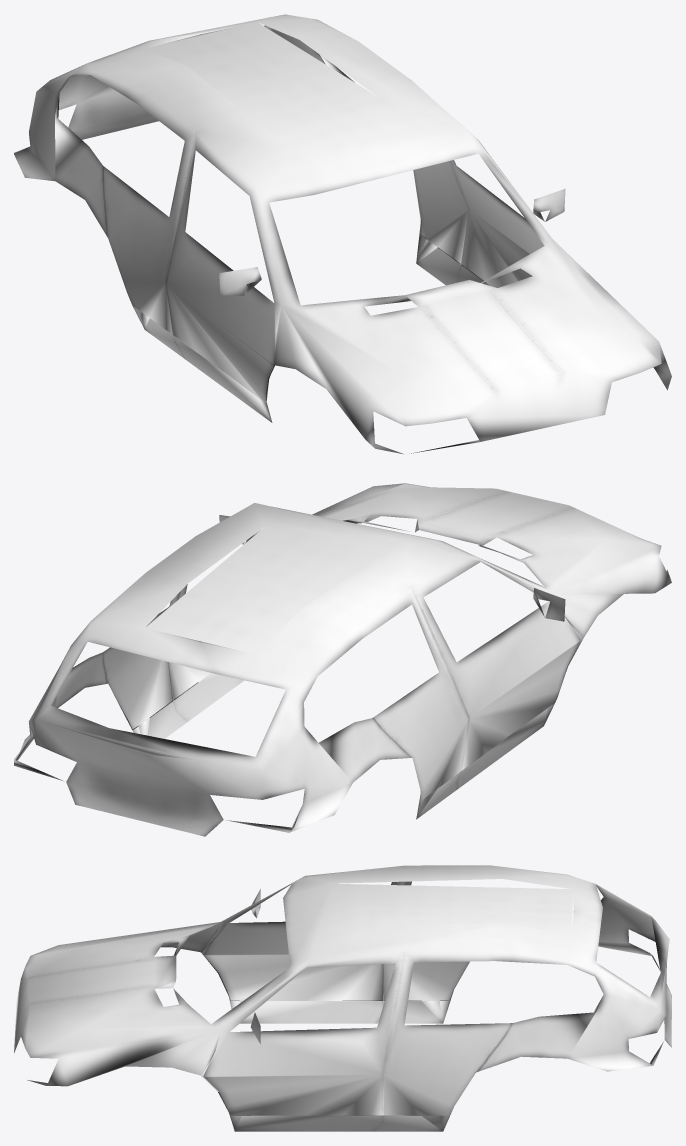
File: LK4_body_d1.obj
3 renders of one model, top to bottom at view 1: azimuth 30°, elevation 25°; view 2: azimuth 150°, elevation 25°; view 3: azimuth 270°, elevation 25°, orthographic. The views are drawn at different scales.
Parts seen in each view (by area): view 1: LK4_body; view 2: LK4_body; view 3: LK4_body.
Part boxes in pixels (left/top/right/bottom): LK4_body: left=14, top=14, right=671, bottom=454; LK4_body: left=14, top=483, right=671, bottom=836; LK4_body: left=14, top=865, right=671, bottom=1131.
Size of the model in its own units: 2.06 by 1.23 by 4.16.
Materials: 1 (1 with a texture image).
